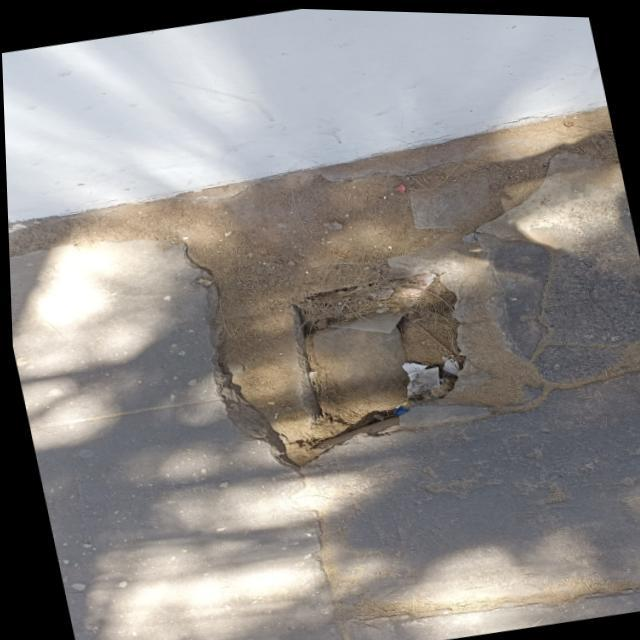hole: (186, 212, 556, 490)
